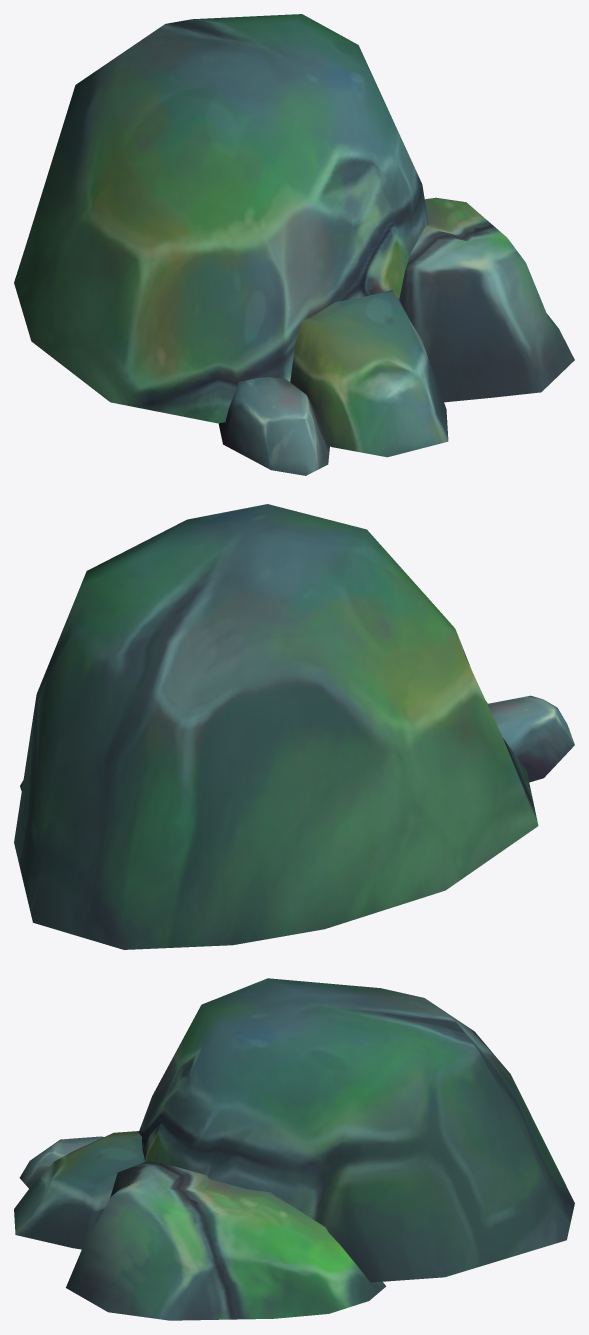
Rendered from rock_1.fbx.
3 renders of one model, top to bottom at view 1: azimuth 30°, elevation 25°; view 2: azimuth 150°, elevation 25°; view 3: azimuth 270°, elevation 25°, orthographic. The views are drawn at different scales.
Visible parts, largest first — view 1: rock; view 2: rock; view 3: rock.
Part boxes in pixels (box(x1,y1,x2,y2)): rock: box(14, 14, 574, 475); rock: box(14, 504, 574, 949); rock: box(14, 978, 574, 1320).
Size of the model in its own units: 71.39 by 43.38 by 95.29.
1 material, 1 textured.
